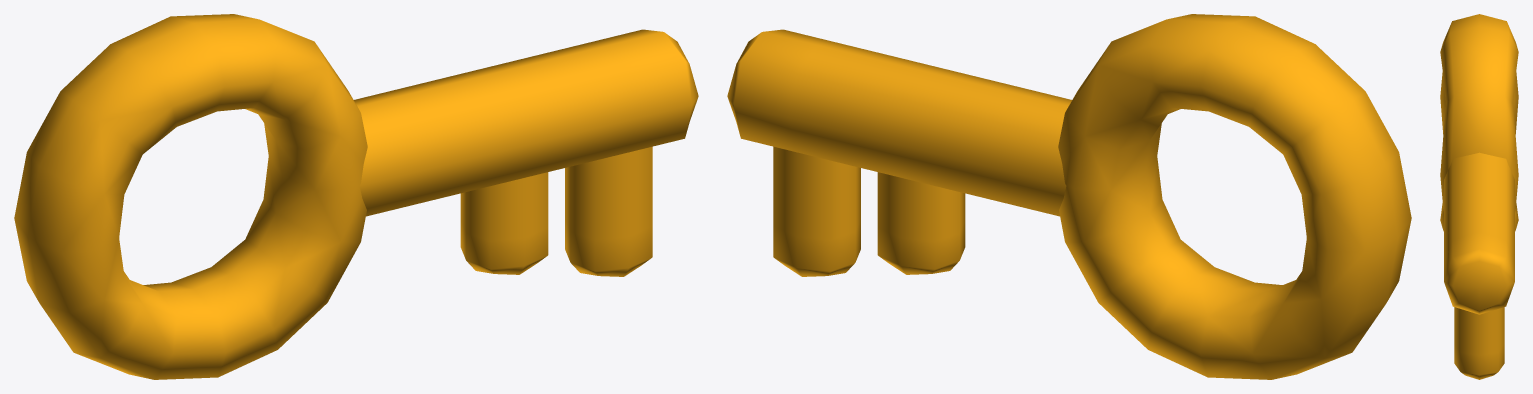
File: Key.fbx
3 renders of one model, left to right at view 1: azimuth 30°, elevation 25°; view 2: azimuth 150°, elevation 25°; view 3: azimuth 270°, elevation 25°, orthographic. The views are drawn at different scales.
Parts seen in each view (by area): view 1: Key; view 2: Key; view 3: Key.
Boxes of the visible parts, left/top/right/bottom form: Key: left=14, top=14, right=698, bottom=379; Key: left=727, top=14, right=1411, bottom=379; Key: left=1440, top=14, right=1518, bottom=379.
Bounding box in the file's own units: 55.48 × 28.21 × 9.13.
